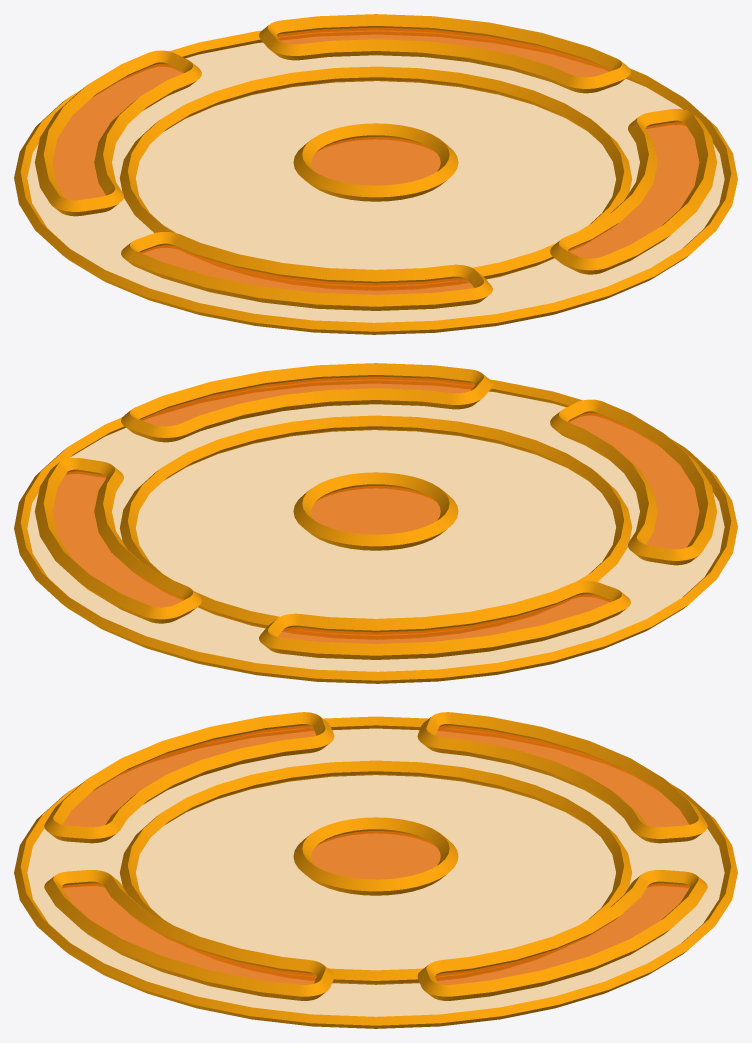
File: BallDisk.FBX
The picture shows the model from 3 angles, top to bottom: view 1: azimuth 30°, elevation 25°; view 2: azimuth 150°, elevation 25°; view 3: azimuth 270°, elevation 25°; orthographic projection.
Visible parts, largest first — view 1: BallDisk; view 2: BallDisk; view 3: BallDisk.
Part boxes in pixels (x1=…): BallDisk: x1=14, y1=14, x2=737, y2=334; BallDisk: x1=14, y1=363, x2=737, y2=683; BallDisk: x1=14, y1=712, x2=737, y2=1028.
Size of the model in its own units: 109 by 5.22 by 109.
